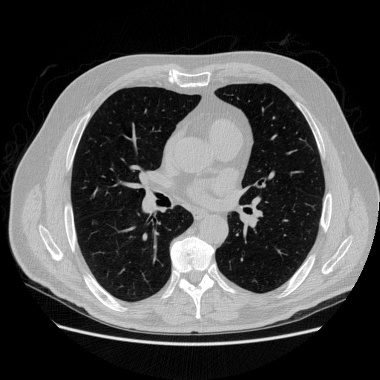PN: (92, 220, 96, 224)
